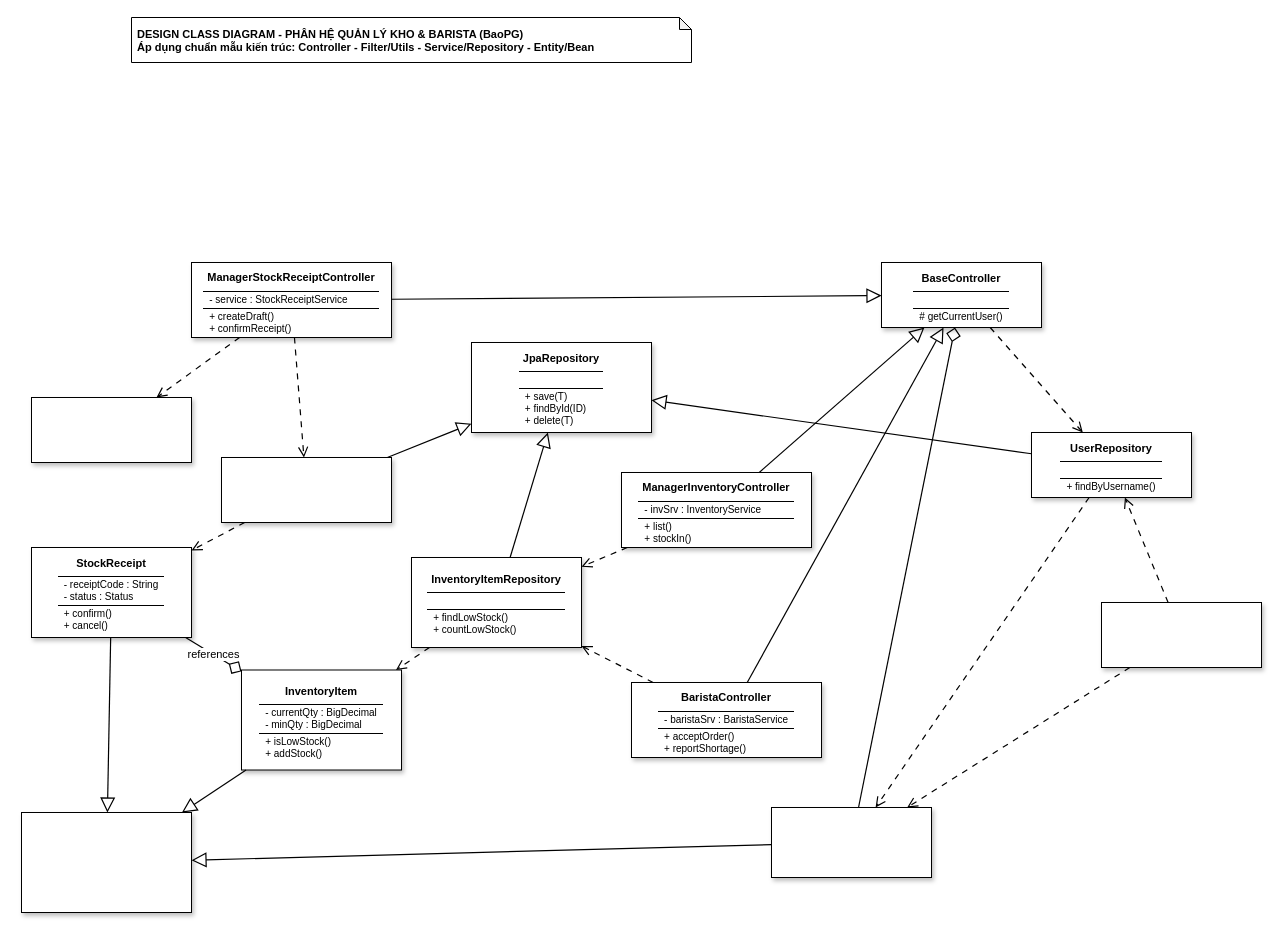
This 1285x937 diagram has some shape labels left out. The centre of each missing label's shape, as x and y in pixels:
"AuthInterceptor - tokenStore : TokenStore + preHandle()" belongs at point (1182, 636).
"BaseEntity # id : Long # createdAt : Date + getId() + getCreatedAt()" belongs at point (107, 864).
"InventoryUtils + calculateBalance() + generateCode()" belongs at point (112, 431).
"StockReceiptRepository + findWithDetailsById()" belongs at point (307, 491).
"User - username : String - role : Role + getRole()" belongs at point (852, 843).
